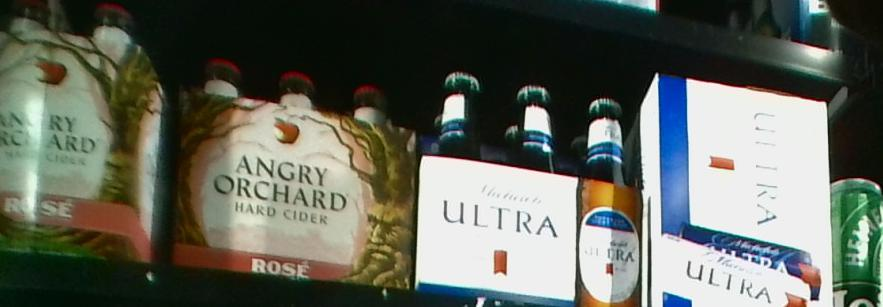bottle: (418, 62, 641, 302), (164, 53, 410, 265), (652, 71, 834, 307)
